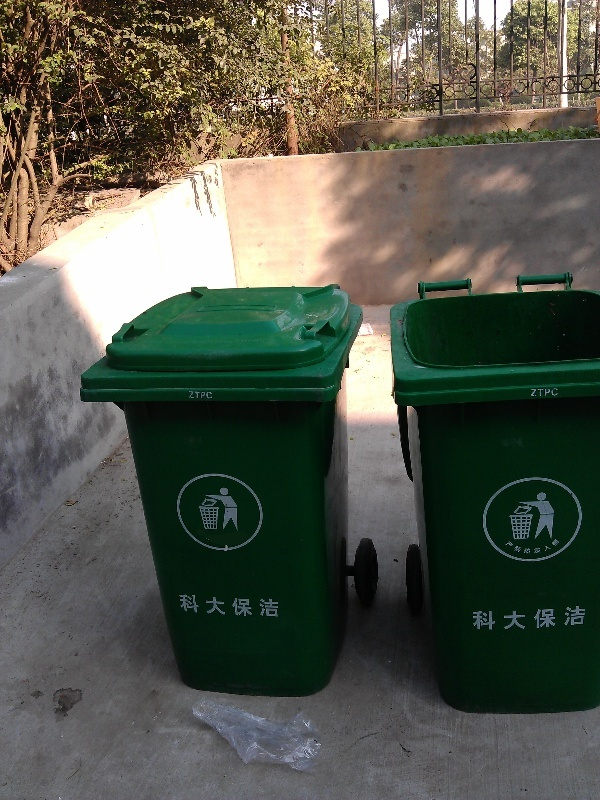text: (481, 605, 496, 632), (497, 605, 512, 632), (513, 605, 528, 632), (529, 605, 544, 632), (545, 605, 560, 632), (561, 605, 576, 632), (193, 594, 208, 617), (209, 594, 224, 617), (225, 594, 240, 617), (241, 594, 256, 617), (257, 594, 272, 617), (180, 594, 192, 617), (577, 605, 587, 632), (471, 605, 480, 632), (513, 540, 528, 555), (529, 540, 544, 555), (545, 540, 560, 555), (545, 386, 561, 399), (529, 386, 544, 399), (273, 594, 280, 617), (193, 391, 208, 401), (504, 540, 512, 555), (209, 391, 214, 401), (188, 391, 192, 401), (527, 386, 528, 399)
